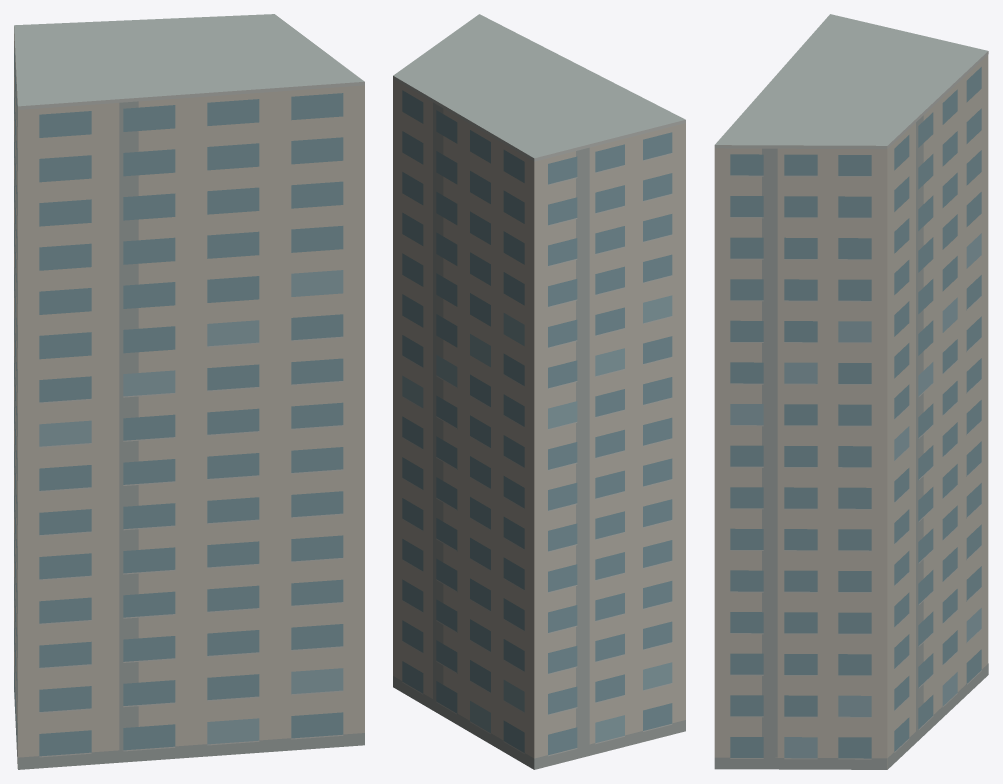
File: residential-29e86599-4218-4e3d-9e12-6cf0339c6454.glb
3 renders of one model, left to right at view 1: azimuth 30°, elevation 25°; view 2: azimuth 150°, elevation 25°; view 3: azimuth 270°, elevation 25°, orthographic. The views are drawn at different scales.
Visible parts, largest first — view 1: residential-29e86599-4218-4e3d-9e12-6cf0339c6454.tmp; view 2: residential-29e86599-4218-4e3d-9e12-6cf0339c6454.tmp; view 3: residential-29e86599-4218-4e3d-9e12-6cf0339c6454.tmp.
Part boxes in pixels (left/top/right/bottom): residential-29e86599-4218-4e3d-9e12-6cf0339c6454.tmp: left=14, top=14, right=364, bottom=769; residential-29e86599-4218-4e3d-9e12-6cf0339c6454.tmp: left=393, top=14, right=685, bottom=769; residential-29e86599-4218-4e3d-9e12-6cf0339c6454.tmp: left=714, top=14, right=988, bottom=769.
Size of the model in its own units: 20.4 by 45 by 17.91.
